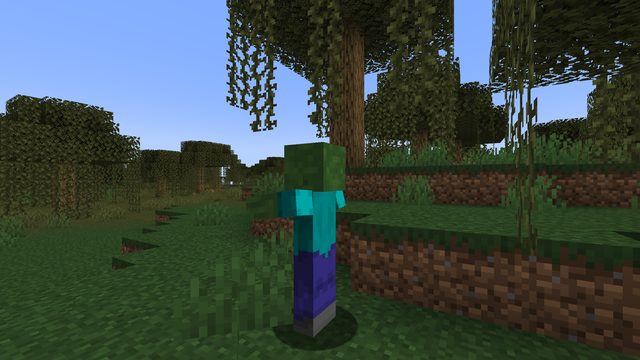zombies: (277, 146, 349, 346)
